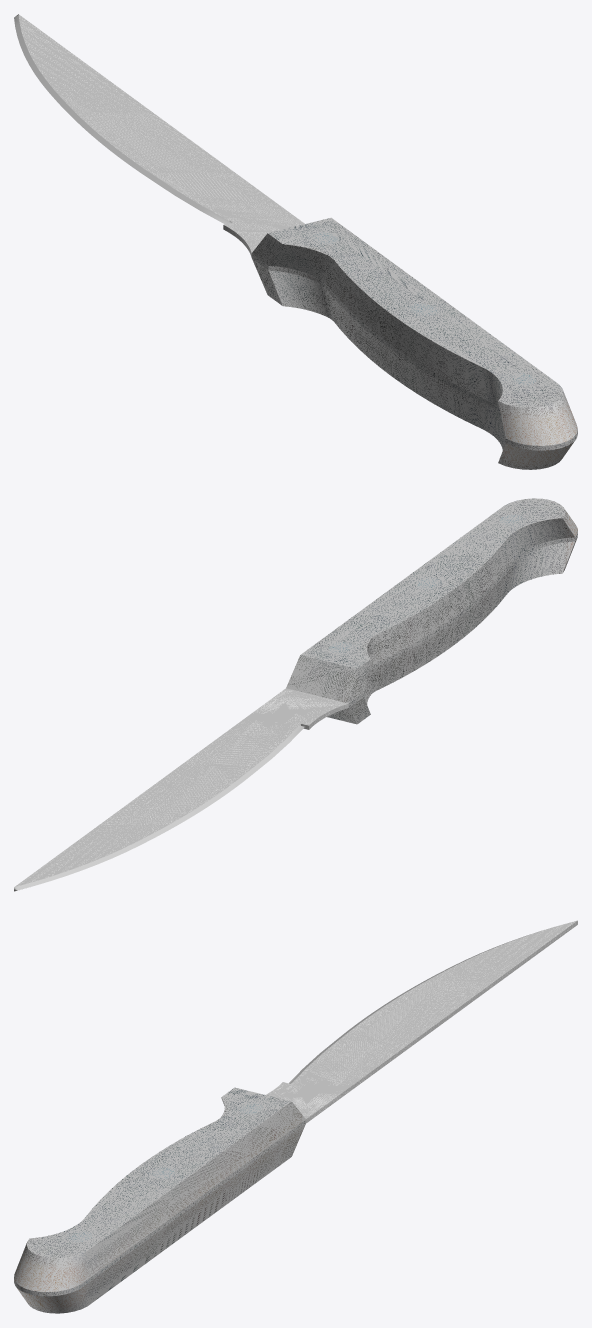
Rendered from coltello.dae.
3 views of the same model, one above another, from view 1: azimuth 30°, elevation 25°; view 2: azimuth 150°, elevation 25°; view 3: azimuth 330°, elevation 25° (orthographic). The views are drawn at different scales.
Visible parts, largest first — view 1: group_2, group_5 (×2), group_1, group_4; view 2: group_2, group_5 (×2), group_1, group_4; view 3: group_2, group_5 (×2), group_1, group_4.
Part boxes in pixels (x1,y1,x2,y2): group_2: (252, 217, 577, 445); group_5 (×2): (18, 14, 577, 450); group_1: (252, 258, 575, 469); group_4: (14, 14, 231, 224); group_2: (286, 498, 577, 703); group_5 (×2): (15, 531, 577, 886); group_1: (327, 539, 576, 724); group_4: (14, 724, 304, 890); group_2: (14, 1087, 305, 1291); group_5 (×2): (14, 920, 577, 1296); group_1: (16, 1124, 305, 1313); group_4: (289, 930, 541, 1083).
Bounding box in the file's own units: 0.6076 × 8.62 × 0.5118.
